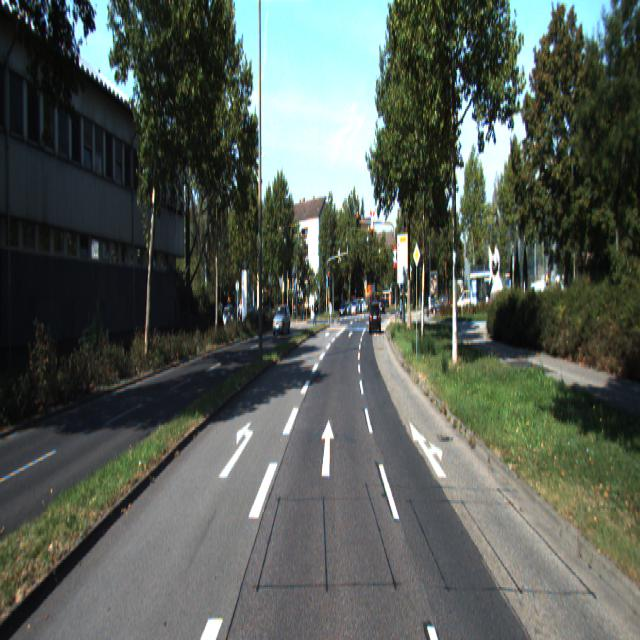Car: (272, 304, 290, 336), (369, 300, 381, 334)
